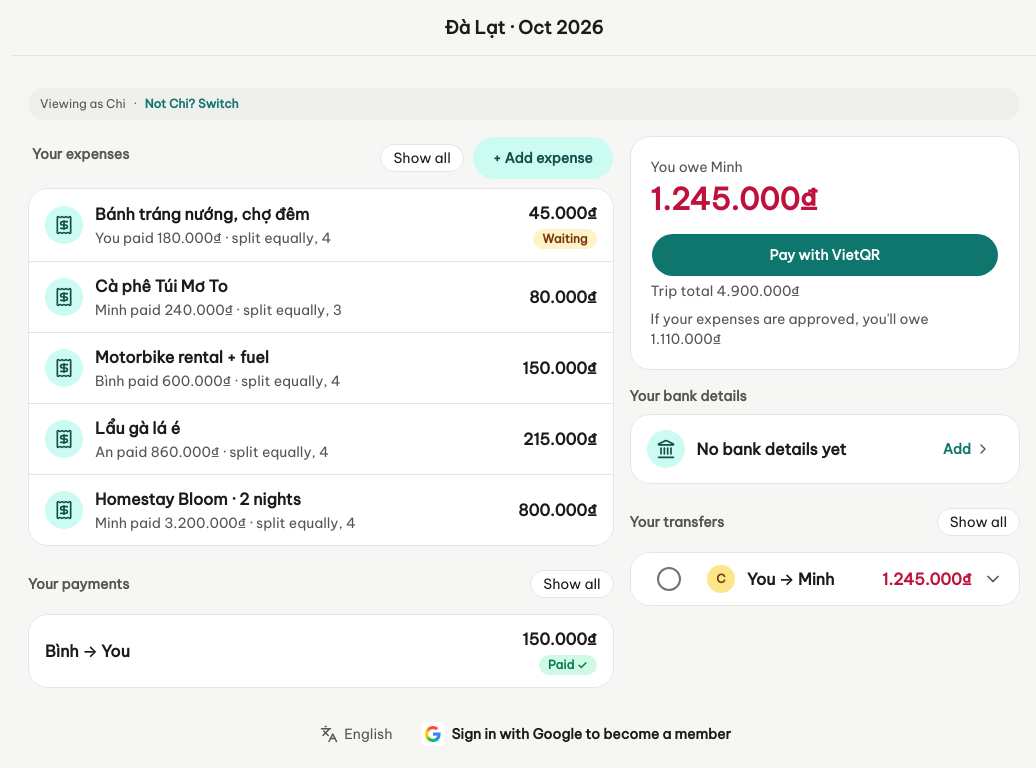
Test: guest page on a wide screen › a payment opens in the panel too
Click the button "Bình → You 150.000₫ Paid ✓": [87, 651] box [29,615,613,687]
(page scrolled)
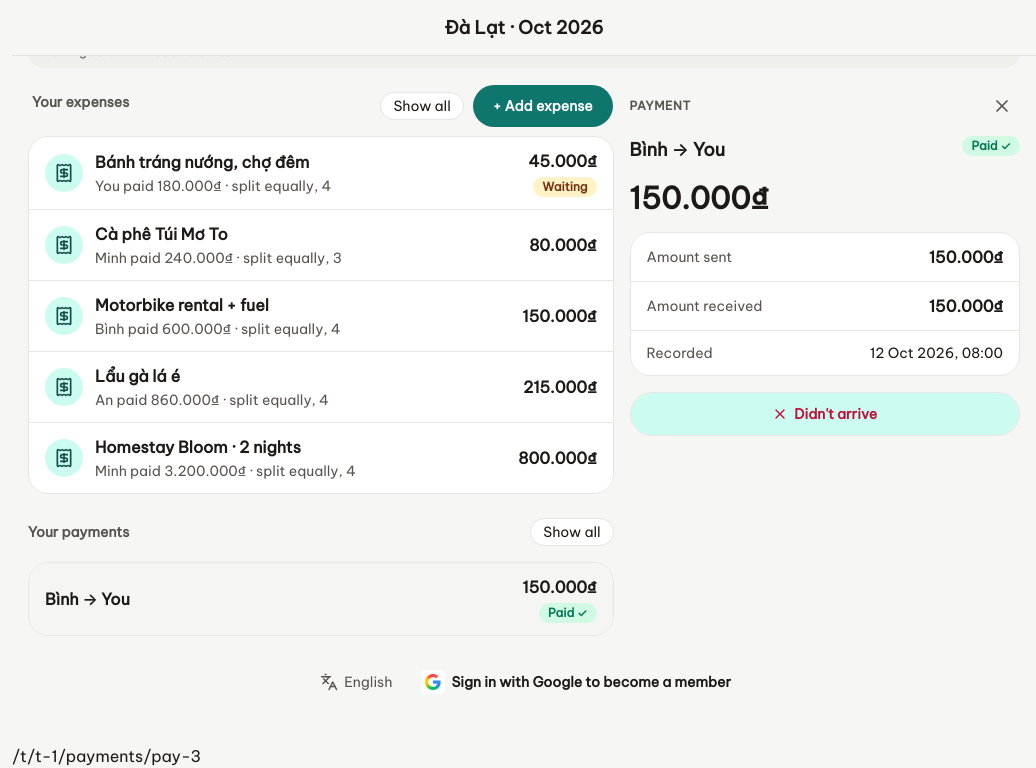
Now the heading "Bình → You" is shown, box [630,136,725,164]
Now the element "Payment" is shown, box [630,84,1020,436]
Now the text with test id "location" reads "/t/t-1/payments/pay-3", box [12,746,201,766]
